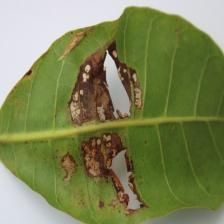leaf miner: (0, 5, 224, 223)
